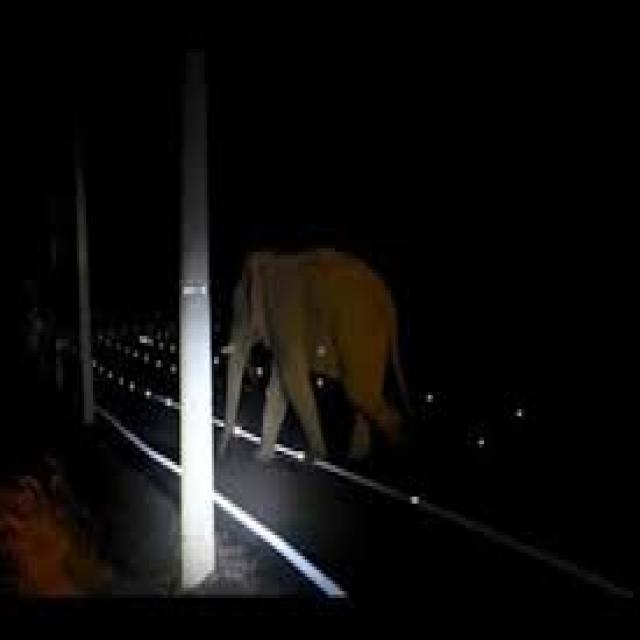Elephant: (217, 228, 416, 476)
